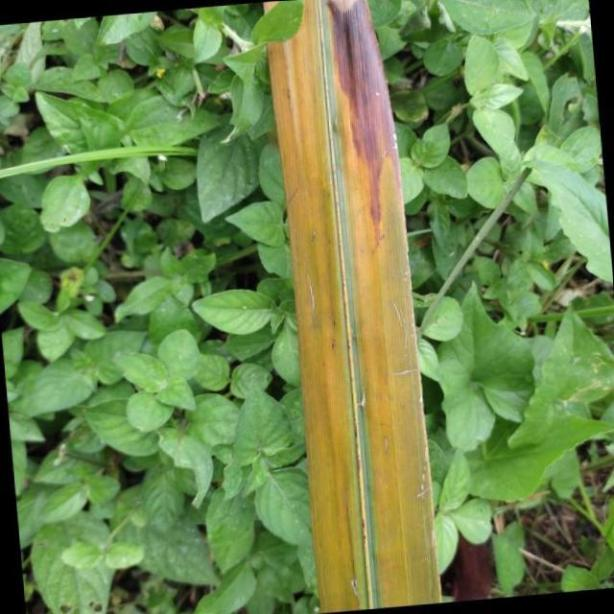Megnesium: (264, 0, 441, 614)
